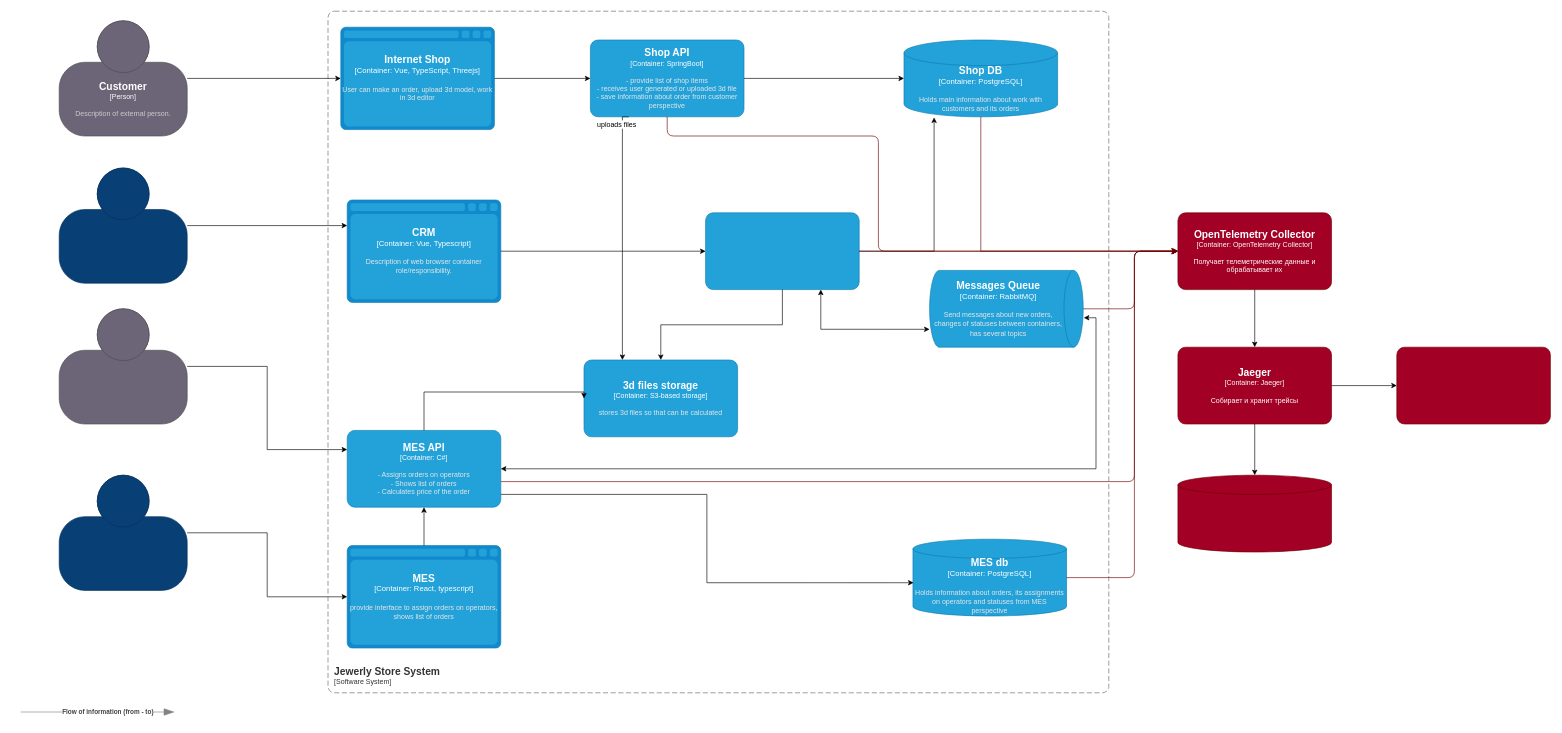
Image size: 1562x733. Some labels were removed from this diagram. Each missing label, with the centre of its shape:
"API user [Person] Description of external person." goes at (x=123, y=366).
"CRM API [Container: SpringBoot] Description of container role/responsibility." goes at (x=782, y=251).
"Jaeger DB [Container: ] Храналище собранных трейсов" goes at (x=1254, y=513).
"Jaeger UI [Container: Jaeger UI] Интерфейс для отображения трейсов" goes at (x=1473, y=385).
"Operator [Person] Takes order in work, manufactures jewerly" goes at (x=123, y=532).
"Seller [Person] Operates with order, confirms manufacturing for the user" goes at (x=123, y=225).
